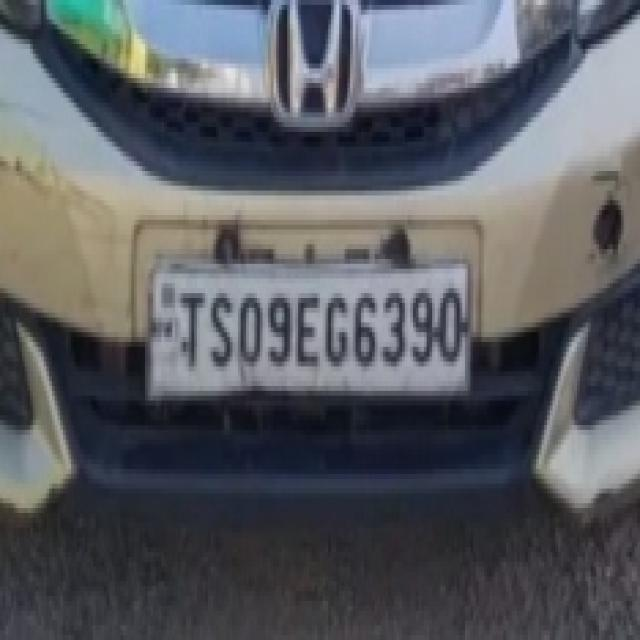0: (238, 282, 266, 379), (439, 285, 464, 377)
3: (378, 284, 408, 379)
6: (352, 289, 378, 375)
9: (265, 288, 291, 379), (409, 284, 437, 364)
E: (293, 286, 322, 376)
G: (319, 285, 351, 373)
S: (206, 282, 236, 374)
T: (176, 280, 208, 377)
